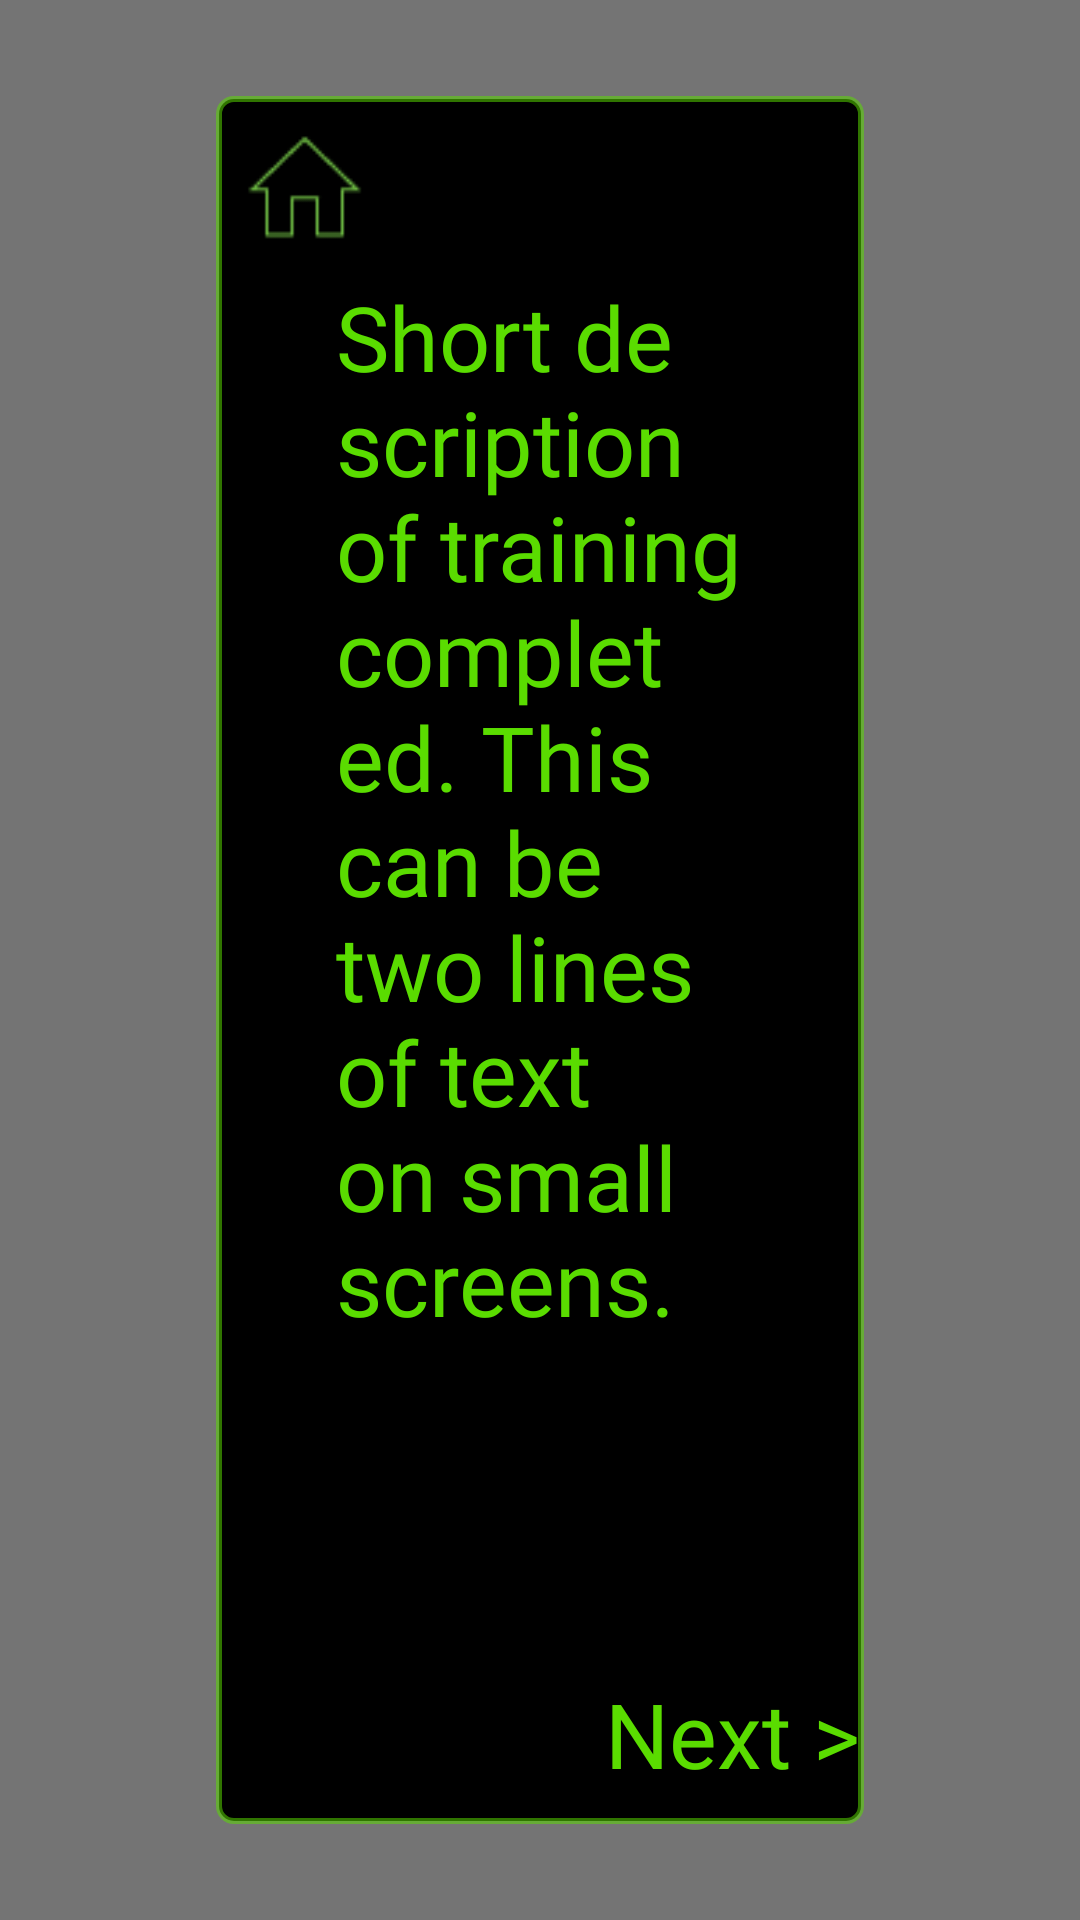

Named icons in this screenshot (1080px×1920px) and their centers, (x,y):
home off: (306,186)
